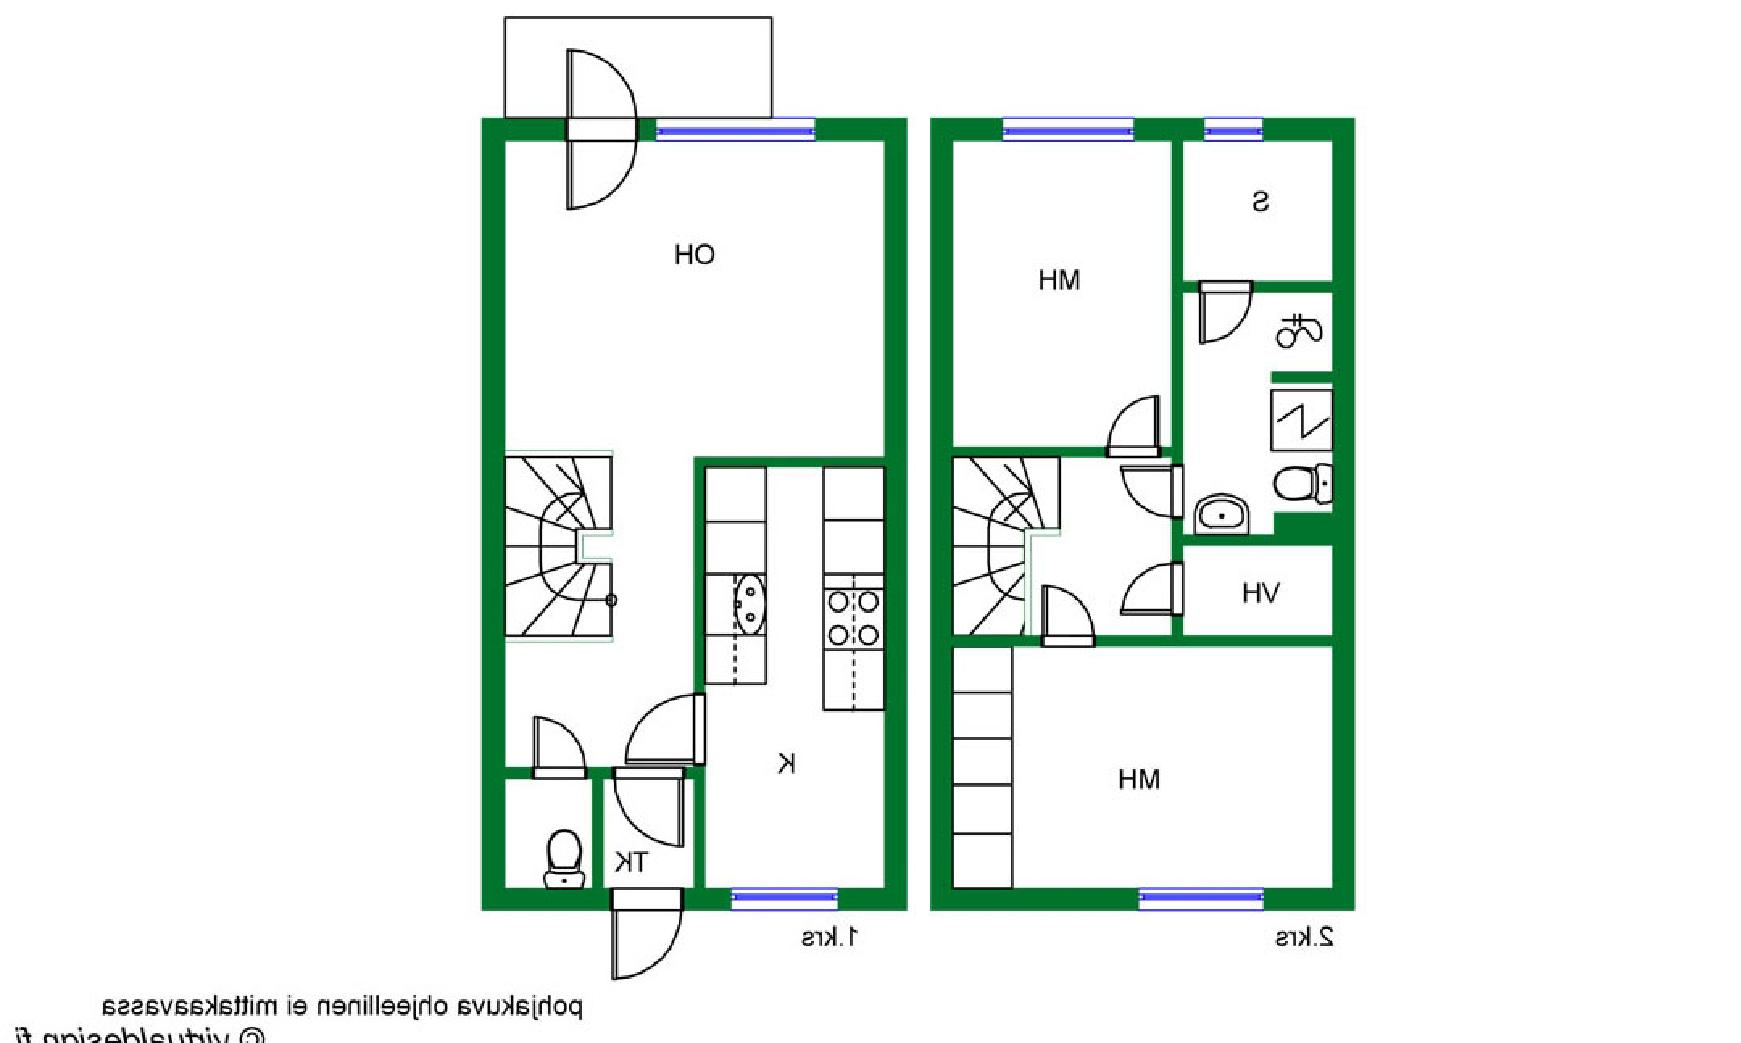door: (556, 43, 643, 219), (608, 889, 689, 978), (612, 769, 687, 848), (620, 692, 705, 760), (1101, 392, 1162, 468), (1200, 277, 1257, 353), (1041, 585, 1101, 653), (1119, 562, 1188, 620), (530, 714, 586, 779), (1118, 463, 1187, 514)
window: (662, 120, 818, 143), (1142, 887, 1264, 911), (1008, 117, 1135, 140), (731, 889, 838, 913), (1208, 115, 1264, 138)
zone: (505, 144, 885, 762), (952, 648, 1327, 887), (702, 468, 884, 893), (951, 138, 1173, 445), (1181, 287, 1337, 538), (954, 454, 1172, 632), (507, 20, 774, 115), (1183, 139, 1332, 279), (1178, 548, 1332, 636), (604, 774, 688, 889), (504, 783, 592, 890)
